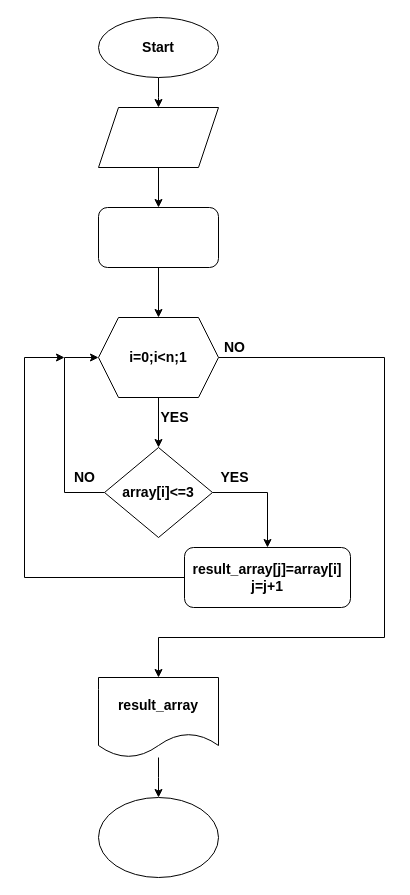
This 410x895 diagram has some shape labels left out. The shapes that lost their labels are listed below. From the top down, each one's box as (x1, y1, x2, y2) in pixels, then its label:
(98, 106, 218, 168): input n input array
(98, 206, 218, 268): result_array = [] j=0
(98, 796, 218, 878): FINISH
